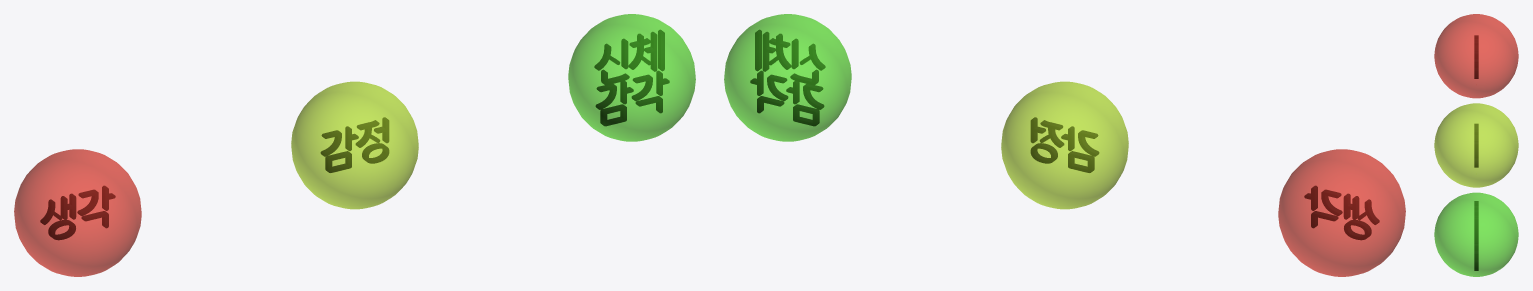
The model's file is #02_Obj_Ball.FBX.
3 views of the same model, side by side, from view 1: azimuth 30°, elevation 25°; view 2: azimuth 150°, elevation 25°; view 3: azimuth 270°, elevation 25° (orthographic). The views are drawn at different scales.
Visible parts, largest first — view 1: #02_Obj_Ball_001, #02_Obj_Ball_003, #02_Obj_Ball_002; view 2: #02_Obj_Ball_001, #02_Obj_Ball_003, #02_Obj_Ball_002; view 3: #02_Obj_Ball_001, #02_Obj_Ball_003, #02_Obj_Ball_002.
Boxes of the visible parts, left/top/right/bottom form: #02_Obj_Ball_001: left=14, top=149, right=141, bottom=276; #02_Obj_Ball_003: left=568, top=14, right=695, bottom=141; #02_Obj_Ball_002: left=291, top=81, right=418, bottom=209; #02_Obj_Ball_001: left=1278, top=149, right=1405, bottom=276; #02_Obj_Ball_003: left=724, top=14, right=851, bottom=141; #02_Obj_Ball_002: left=1001, top=81, right=1128, bottom=209; #02_Obj_Ball_001: left=1434, top=14, right=1518, bottom=98; #02_Obj_Ball_003: left=1434, top=192, right=1518, bottom=276; #02_Obj_Ball_002: left=1434, top=103, right=1518, bottom=187.
Bounding box in the file's own units: 2400 × 400 × 400.
